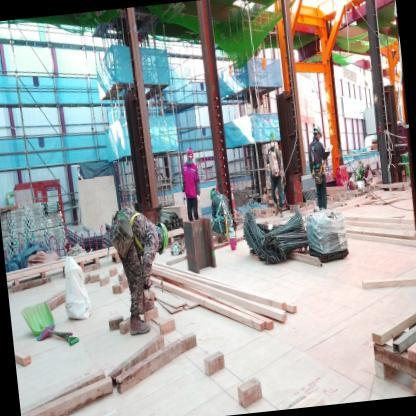safety-shoe: (125, 311, 155, 350), (140, 292, 165, 317)
